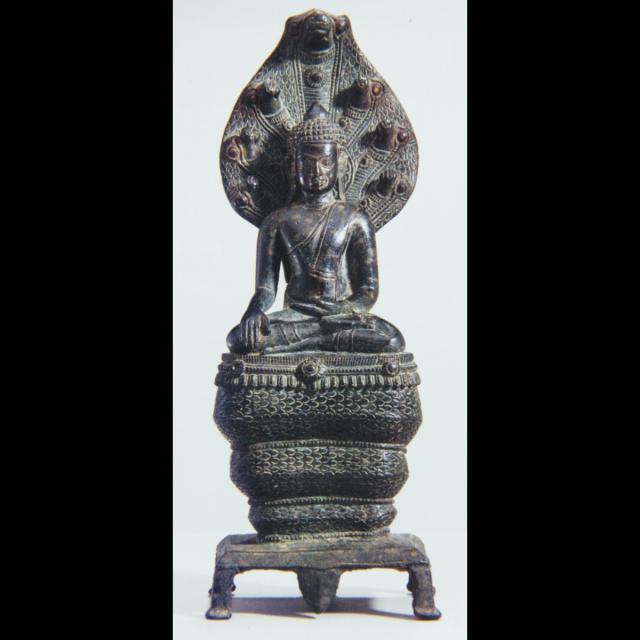buddha-sitting: (212, 99, 432, 534)
